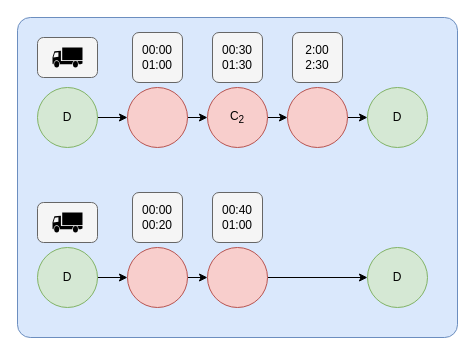
The diagram is 475 pixels wide and 355 high, and some of its shapes have lost their labels. The centre of each missing label's shape, as x and y in pixels:
"C 1" goes at point (157, 117).
"C 3" goes at point (317, 117).
"C 4" goes at point (157, 277).
"C 5" goes at point (237, 277).
